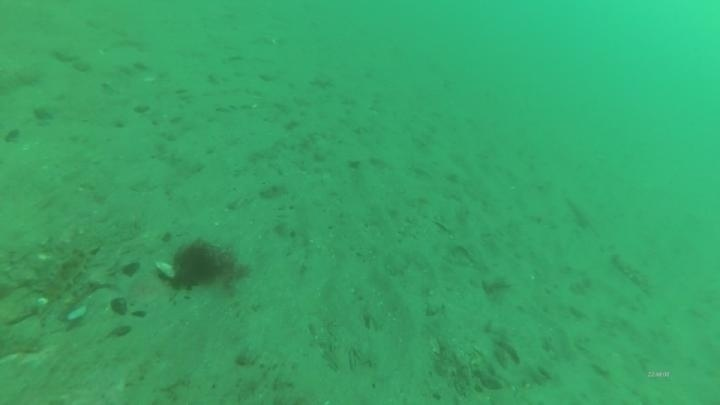holothurian: (42, 239, 101, 304), (608, 249, 656, 300)
